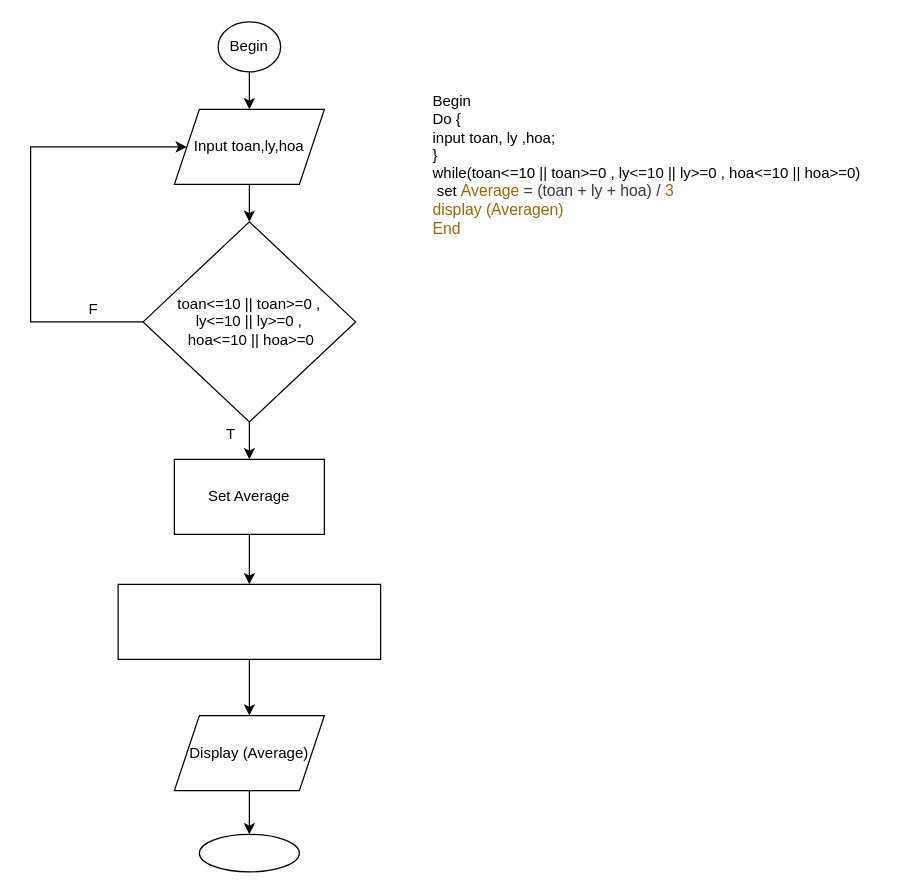
This 903x894 diagram has some shape labels left out. The shapes that lost their labels are listed below. From the top down, each one's box as (x1, y1, x2, y2) in pixels, then its label:
(117, 583, 381, 659): Average = (toan + ly + hoa) / 3
(198, 833, 299, 872): End
